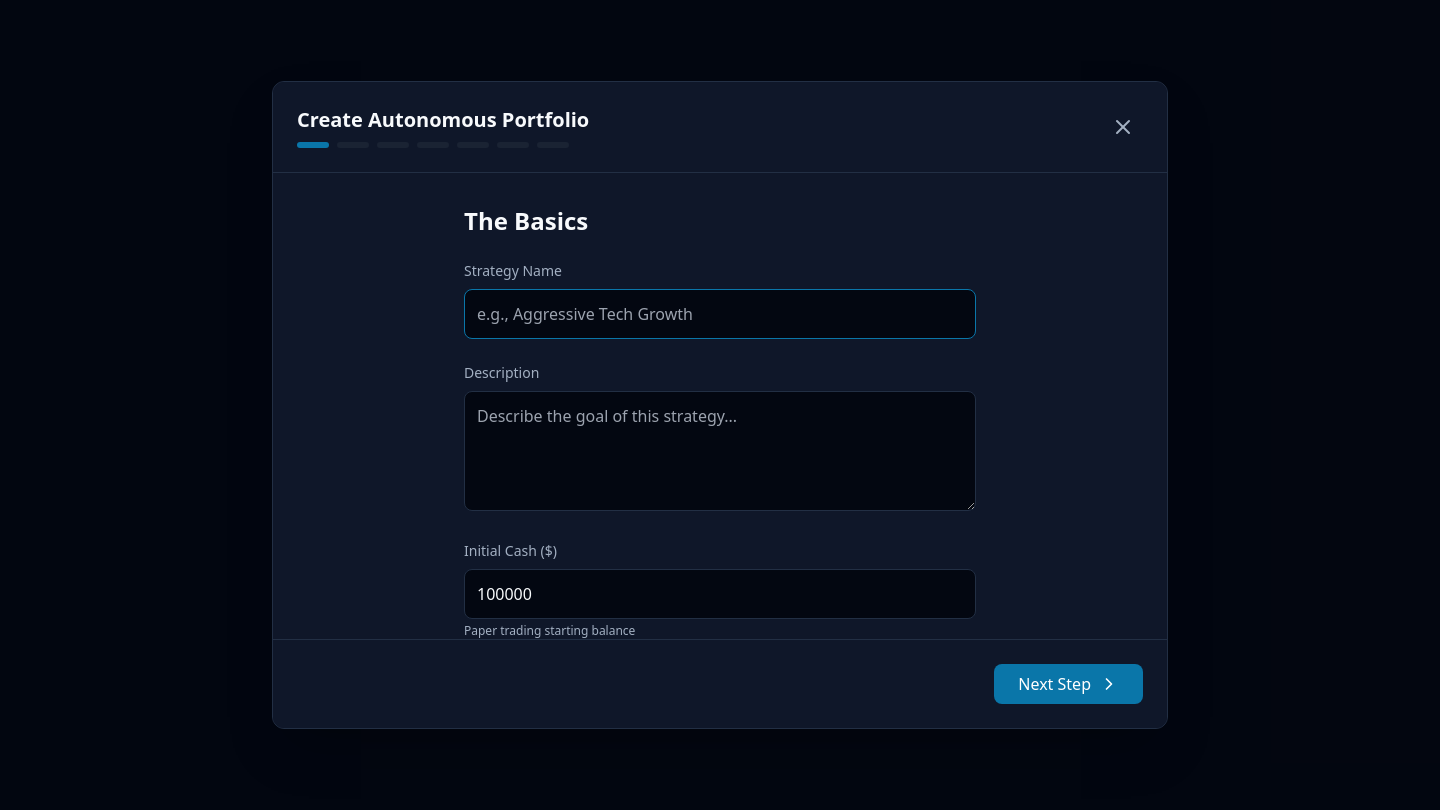
Scenario: StrategyWizard - Filter Template Presets › renders template selector on step 2
# Navigate to step 2
Type "Test Strategy" into the field with placeholder "e.g., Aggressive Tech Growth" at point(720, 314), box [464, 289, 976, 339]
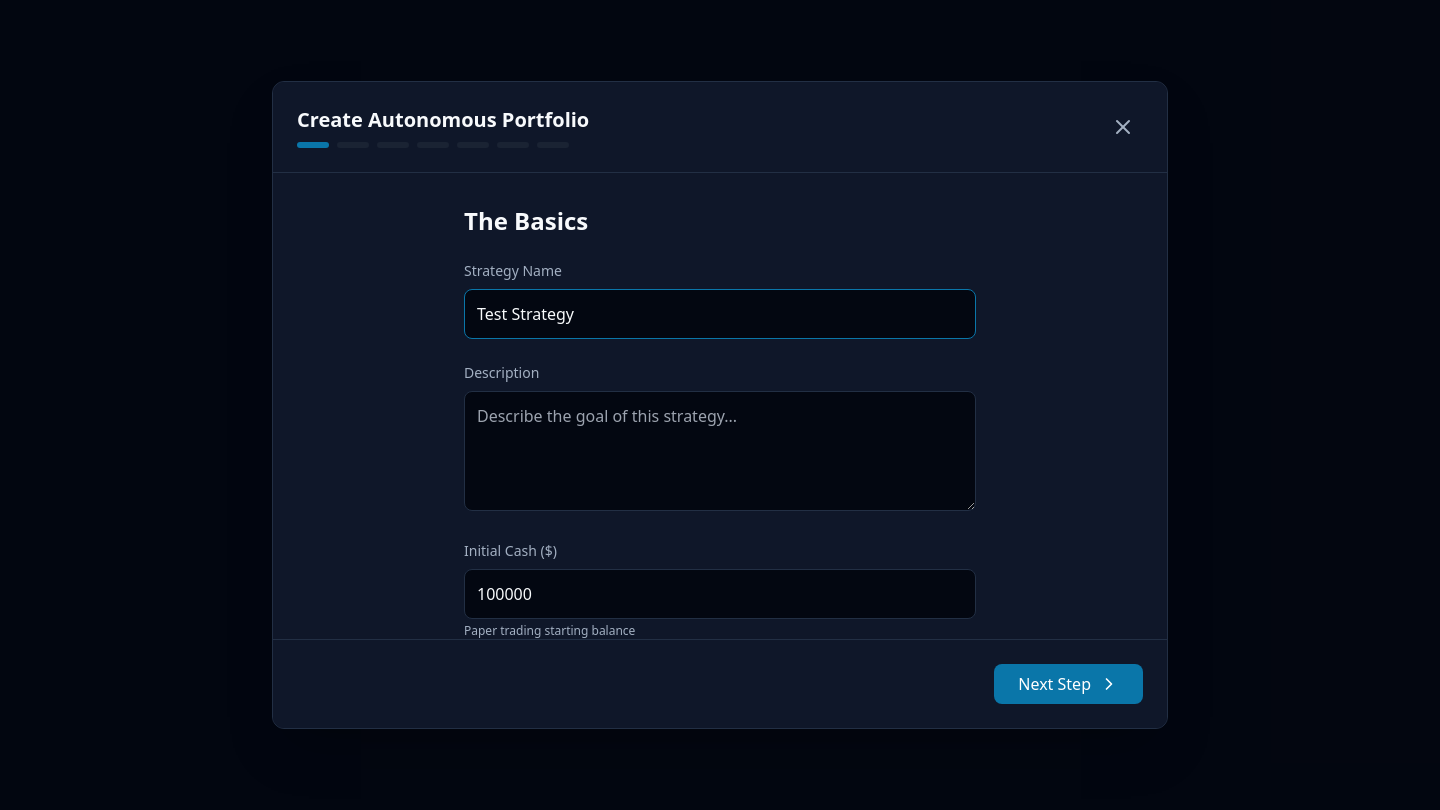
Click the button "Next Step" at point(1069, 684), box [994, 664, 1143, 704]
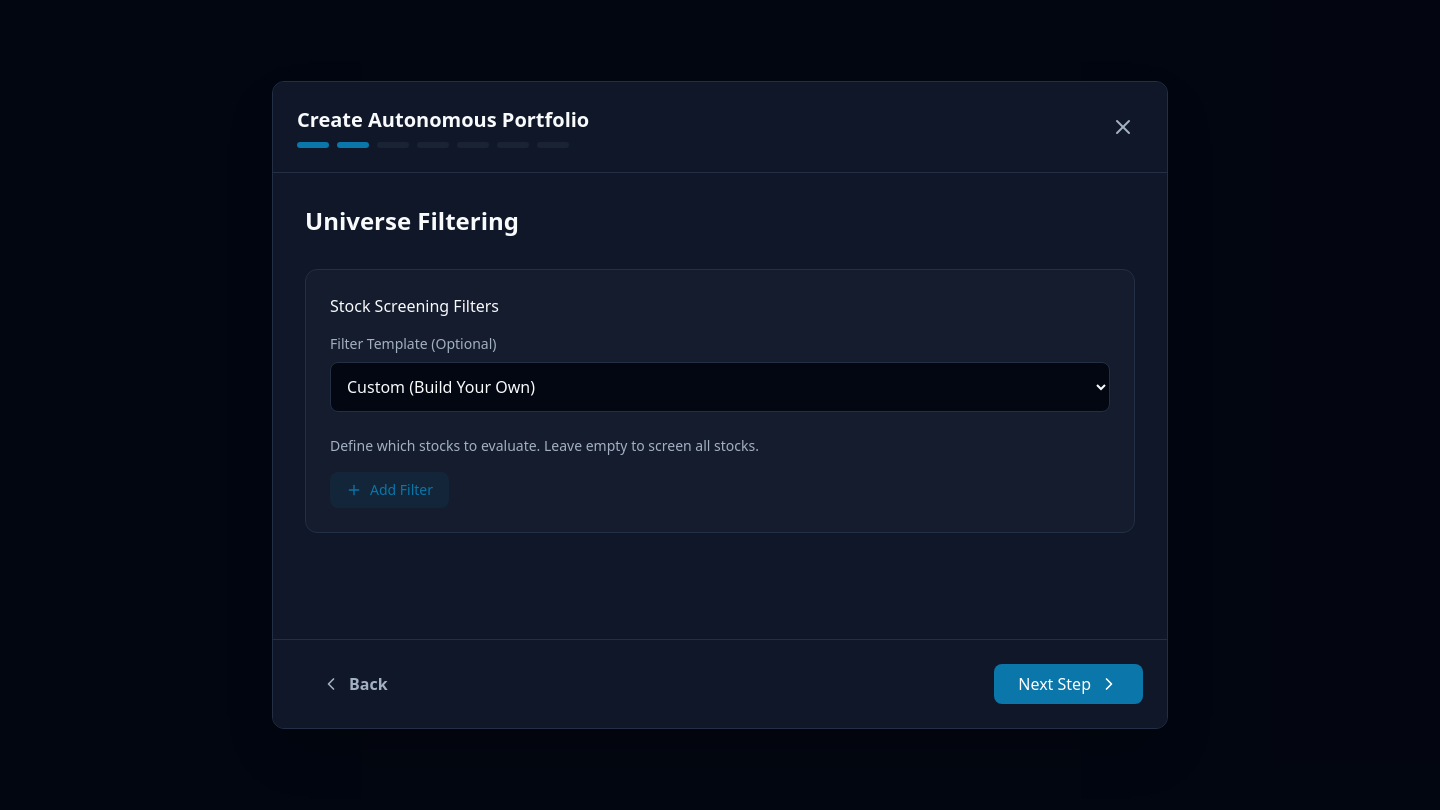
Check: the text "Filter Template (Optional)" is shown, box [330, 334, 496, 353]
